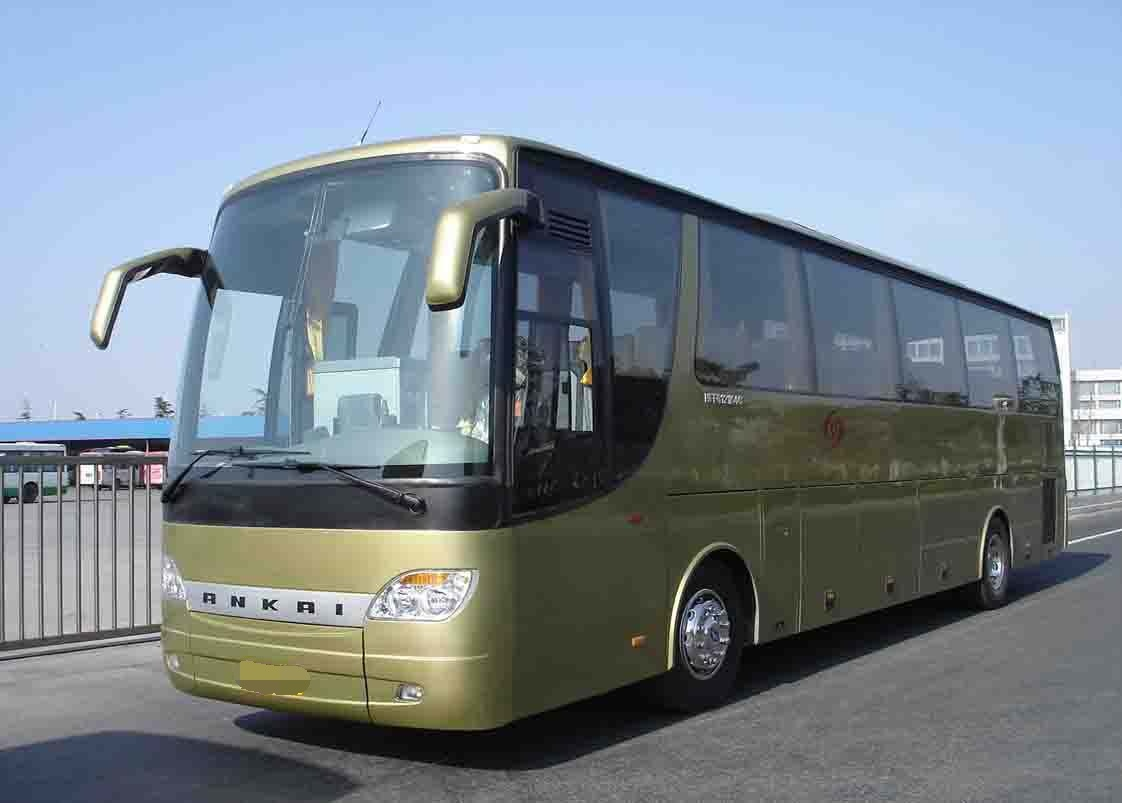bus: (82, 122, 1085, 741)
